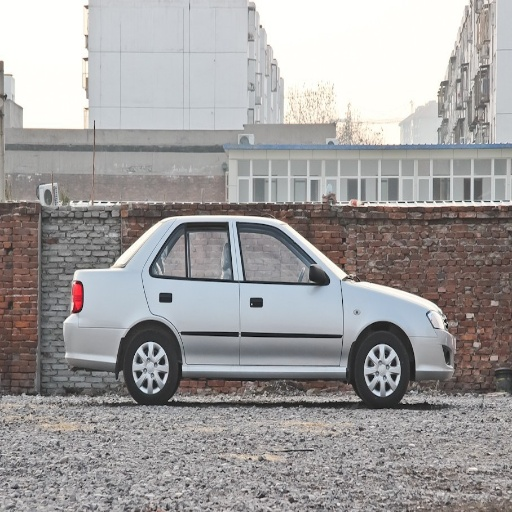back_right_door: (144, 216, 238, 366)
front_right_door: (236, 218, 343, 366)
